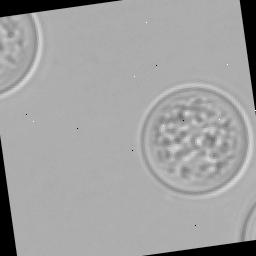picoshell: (138, 83, 253, 199), (0, 14, 44, 99), (243, 203, 256, 241)
